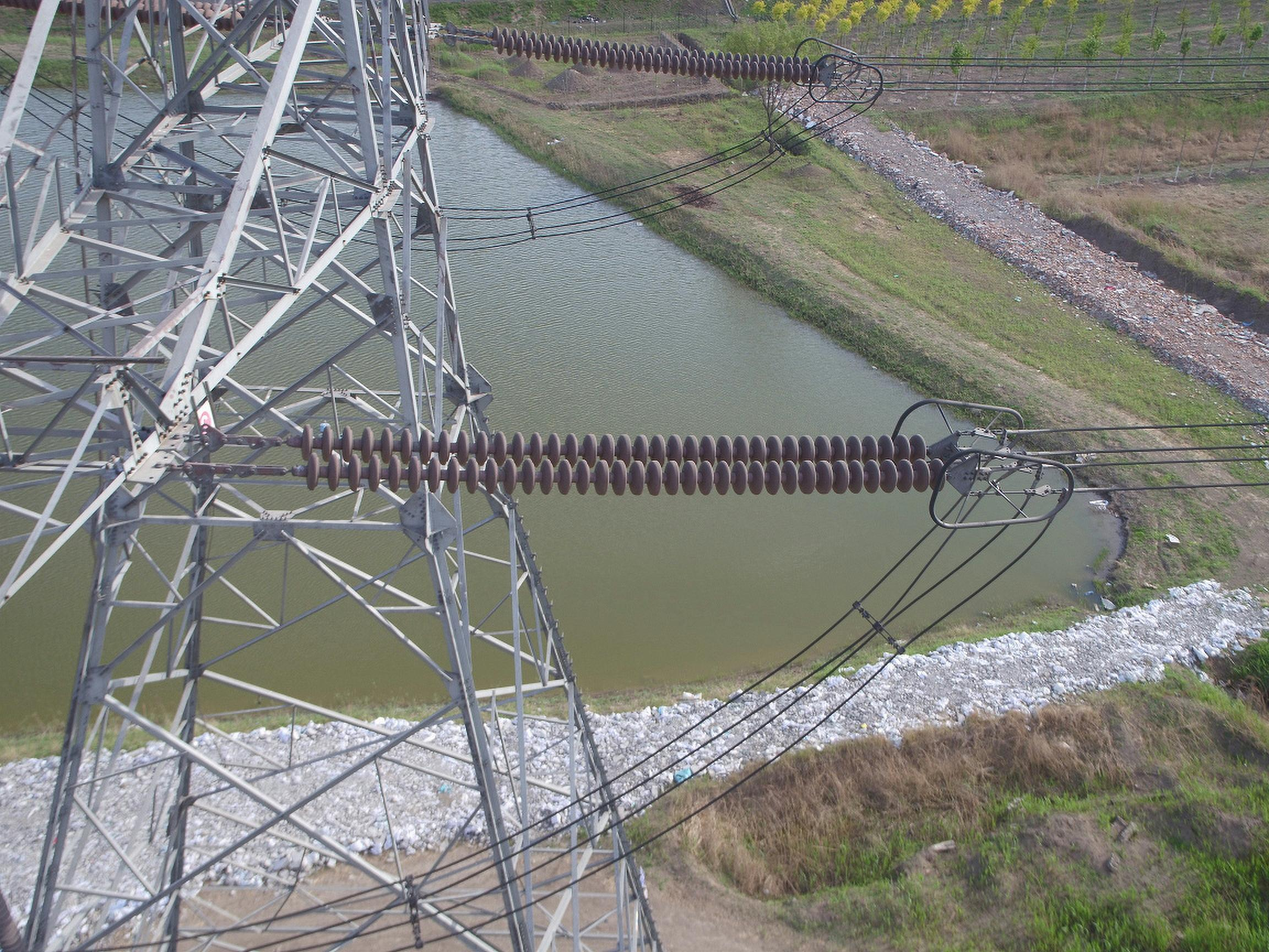insulator: (297, 420, 950, 497), (490, 22, 822, 86), (1, 1, 255, 33)
